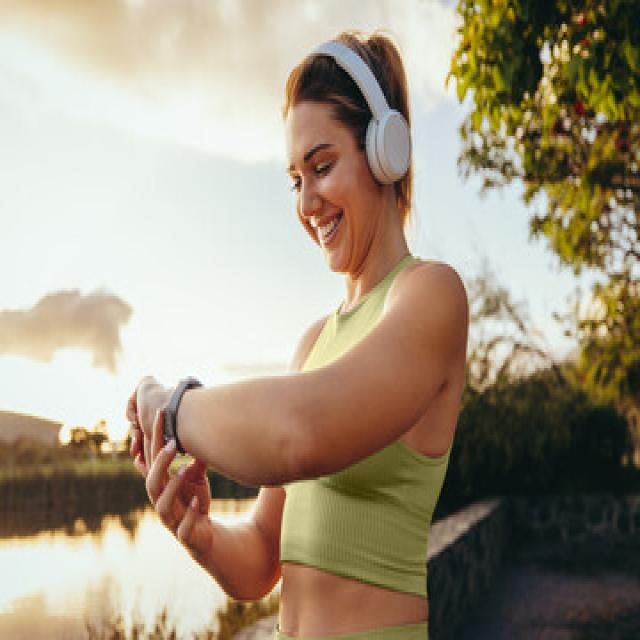Headphone: (307, 36, 414, 188)
